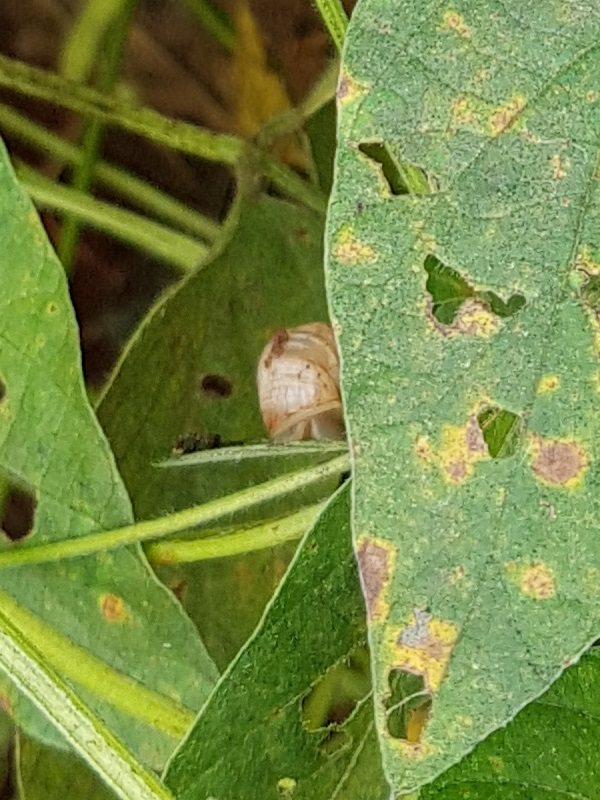Gastropoda: (230, 307, 383, 470)
